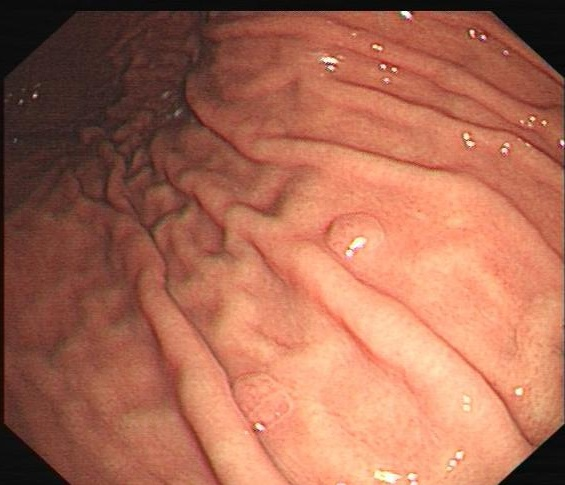Polyp: (321, 207, 384, 267)
